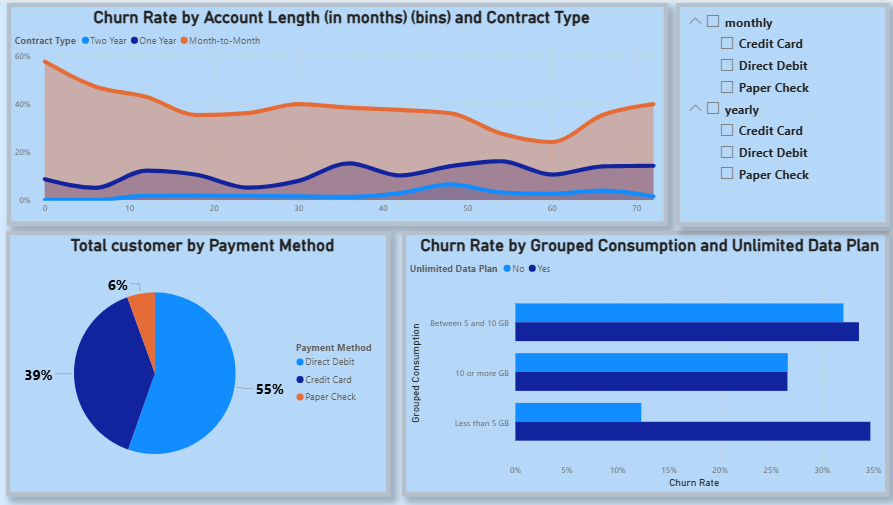

This screenshot's page, from the dashboard's own definition file:
{"tool":"powerbi","page":{"name":"Contract and Plan","canvas":[1280,720],"ordinal":3},"visuals":[{"type":"areaChart","fields":{"Y":["Databel - Data.Churn Rate"],"Series":["Databel - Data.Contract Type"],"Category":["Databel - Data.Account Length (in months) (bins)"]},"box":[12.2,3.3,944.4,317.8],"z":0},{"type":"pieChart","fields":{"Y":["Databel - Data.Total customer"],"Category":["Databel - Data.Payment Method"]},"box":[12,328.7,549.3,379.3],"z":1000},{"type":"clusteredBarChart","fields":{"Series":["Databel - Data.Unlimited Data Plan"],"Y":["Databel - Data.Churn Rate"],"Category":["Databel - Data.Grouped Consumption"]},"box":[577.8,328.9,696.3,379.3],"z":2000},{"type":"slicer","fields":{"Values":["Databel - Data.contract category","Databel - Data.Payment Method"]},"box":[968.9,3,305.2,318.5],"z":3000}]}

Visuals, with their boxes in screenshot pixels (x1, y1, x2, y2), scaled from the page's 1280x720 canvas onto the 893x505 screenshot:
areaChart - Databel - Data.Churn Rate x Databel - Data.Contract Type: rect(9, 2, 667, 225)
pieChart - Databel - Data.Total customer x Databel - Data.Payment Method: rect(8, 231, 392, 497)
clusteredBarChart - Databel - Data.Unlimited Data Plan x Databel - Data.Churn Rate: rect(403, 231, 889, 497)
slicer - Databel - Data.contract category x Databel - Data.Payment Method: rect(676, 2, 889, 225)
